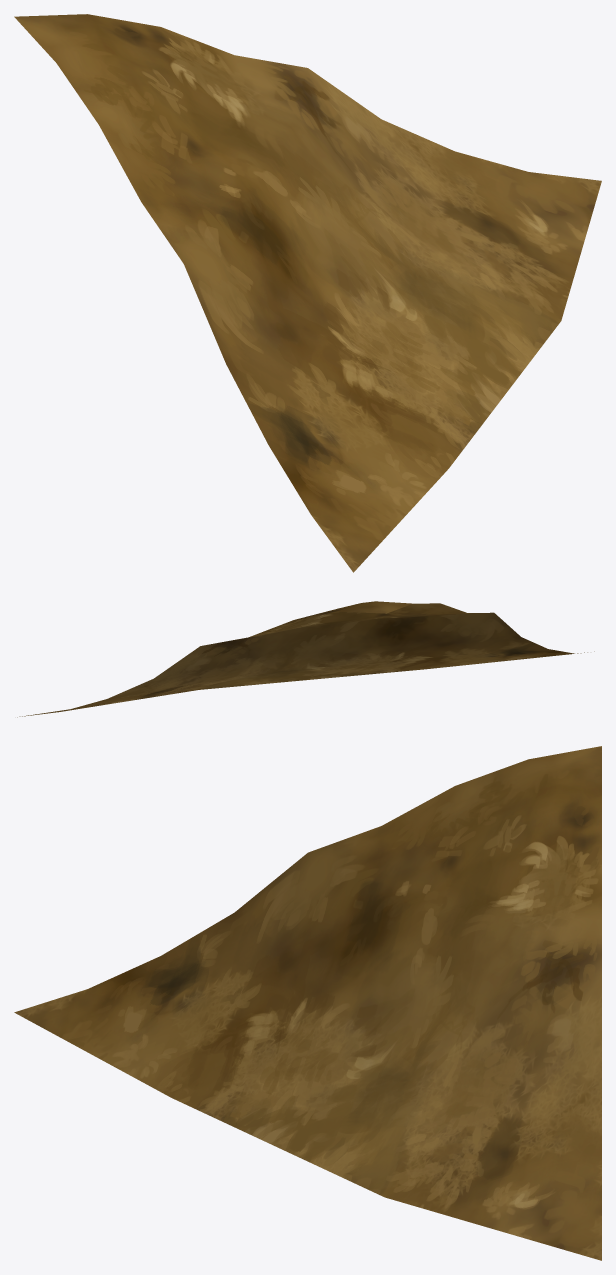
The model's file is Slope_Corner_008.fbx.
3 views of the same model, one above another, from view 1: azimuth 30°, elevation 25°; view 2: azimuth 150°, elevation 25°; view 3: azimuth 270°, elevation 25° (orthographic). The views are drawn at different scales.
Parts seen in each view (by area): view 1: Slope_Corner_008; view 2: Slope_Corner_008; view 3: Slope_Corner_008.
Part boxes in pixels (x1=…): Slope_Corner_008: x1=14, y1=14, x2=601, y2=572; Slope_Corner_008: x1=17, y1=601, x2=594, y2=717; Slope_Corner_008: x1=14, y1=746, x2=601, y2=1260.
Size of the model in its own units: 10 by 5.12 by 10.
1 material, 1 textured.
